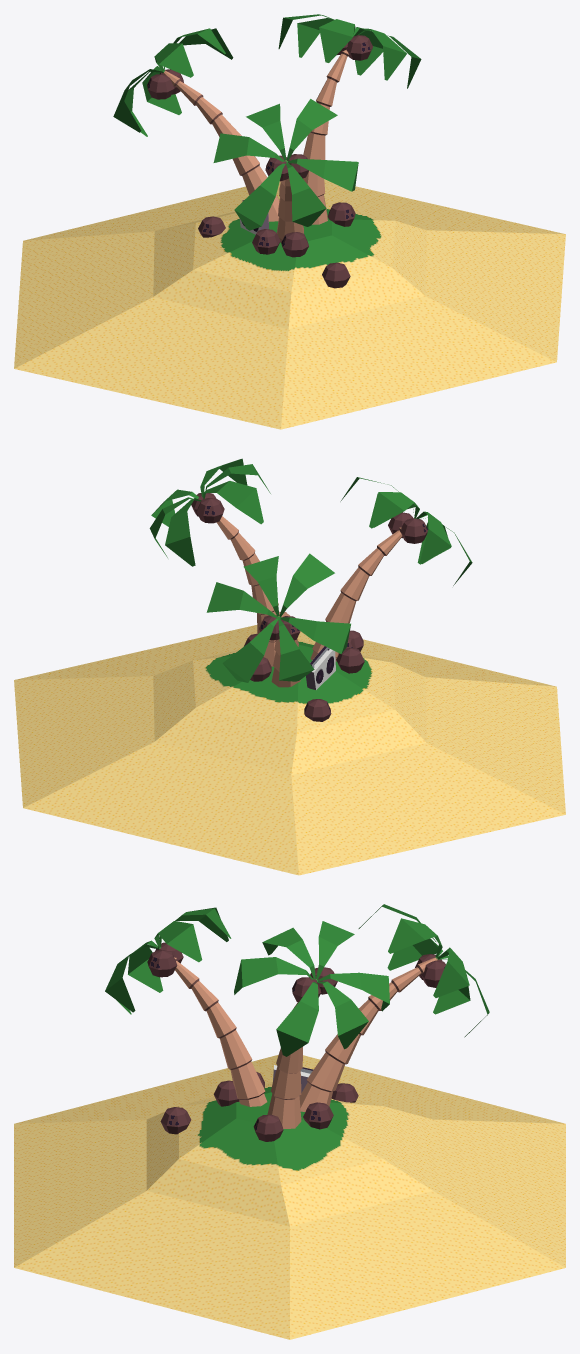
The model's file is ilha.fbx.
3 views of the same model, one above another, from view 1: azimuth 30°, elevation 25°; view 2: azimuth 150°, elevation 25°; view 3: azimuth 270°, elevation 25° (orthographic). The views are drawn at different scales.
Parts seen in each view (by area): view 1: chao, cylinder_1, cylinder_5, cylinder_3, cylinder_2, cylinder_4, cylinder, coco_10, coco, coco_6, coco_7, coco_4 (+1 smaller); view 2: chao, cylinder_3, cylinder_5, cylinder_1, cylinder, cylinder_4, cuboid, coco_3, coco_1, coco; view 3: chao, cylinder_5, cylinder_3, cylinder_1, cylinder, cylinder_2, cylinder_4, coco_2, coco_8, coco_10, coco_9.
Boxes of the visible parts, x1,y1,x2,y2 form: chao: (14, 179, 565, 429); cylinder_1: (213, 99, 358, 230); cylinder_5: (278, 14, 421, 88); cylinder_3: (113, 28, 233, 136); cylinder_2: (163, 70, 279, 221); cylinder_4: (303, 50, 349, 224); cylinder: (277, 160, 303, 242); coco_10: (322, 262, 350, 288); coco: (252, 229, 280, 254); coco_6: (147, 74, 174, 99); coco_7: (281, 232, 308, 257); coco_4: (346, 35, 372, 60); chao: (14, 625, 565, 875); cylinder_3: (206, 553, 350, 682); cylinder_5: (149, 458, 270, 566); cylinder_1: (340, 477, 472, 585); cylinder: (310, 527, 402, 661); cylinder_4: (216, 516, 279, 666); cuboid: (306, 649, 335, 689); coco_3: (196, 498, 224, 523); coco_1: (400, 518, 427, 543); coco: (336, 648, 364, 673); chao: (14, 1055, 565, 1339); cylinder_5: (234, 921, 389, 1056); cylinder_3: (358, 904, 489, 1037); cylinder_1: (105, 907, 231, 1014); cylinder: (174, 957, 267, 1106); cylinder_2: (299, 957, 437, 1111); cylinder_4: (267, 979, 316, 1128); coco_2: (147, 950, 177, 977); coco_8: (253, 1114, 283, 1141); coco_10: (160, 1107, 191, 1134); coco_9: (303, 1102, 333, 1129).
Size of what is drawn, in the model's own units: 2378 by 1095 by 1925.
Materials: 5 (5 with a texture image).
